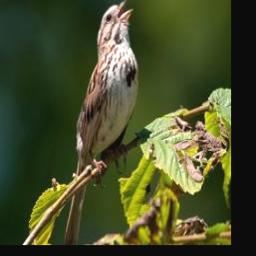Sparrow: (64, 0, 139, 242)
